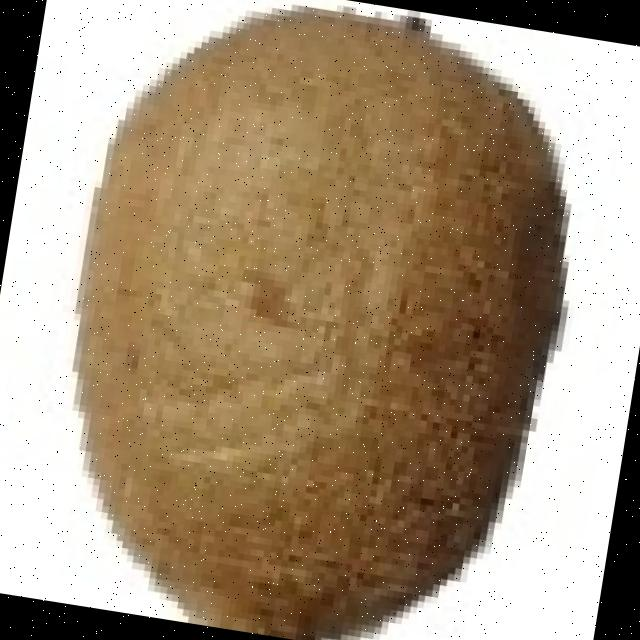kiwi: (73, 0, 555, 628)
